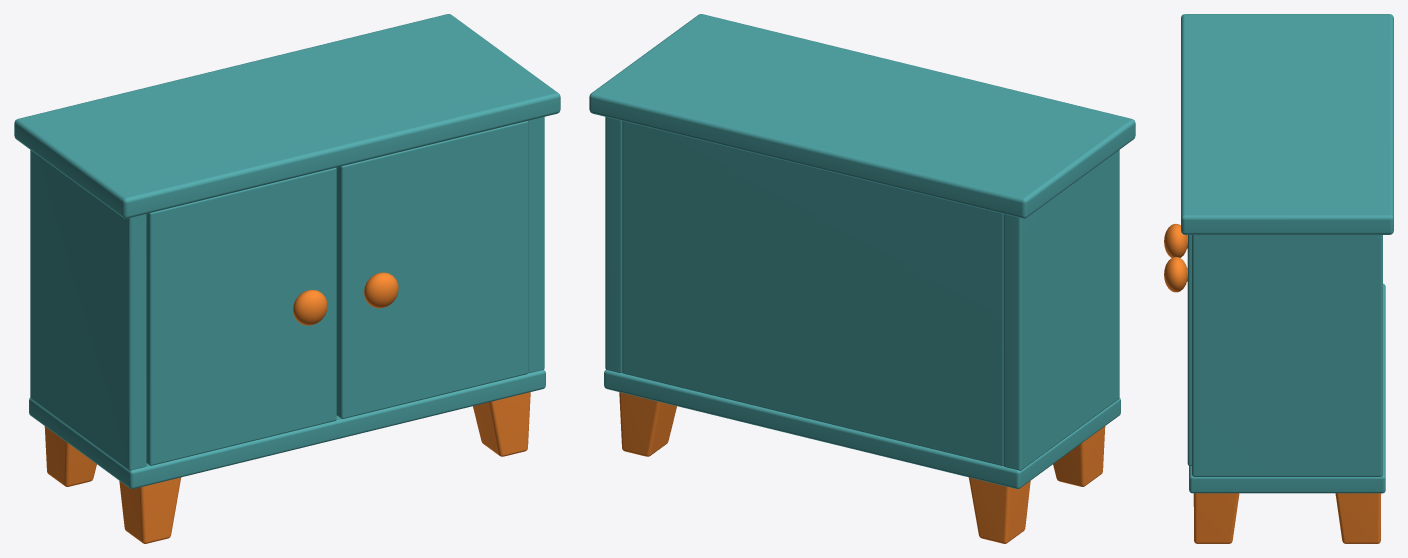
The picture shows the model from 3 angles, left to right: view 1: azimuth 30°, elevation 25°; view 2: azimuth 150°, elevation 25°; view 3: azimuth 270°, elevation 25°; orthographic projection. The views are drawn at different scales.
Visible parts, largest first — view 1: Overhanging solid top, Left inset door, Right inset door, Right side panel, Bottom plinth, Left side panel, Orange tapered foot, Orange tapered foot.002, Orange tapered foot.001, Orange round door knob.001, Orange round door knob; view 2: Rear panel, Overhanging solid top, Right side panel, Bottom plinth, Left side panel, Orange tapered foot.001, Orange tapered foot.003, Orange tapered foot; view 3: Overhanging solid top, Left side panel, Bottom plinth, Orange tapered foot.002, Orange tapered foot.003, Left inset door, Orange round door knob.001, Orange round door knob.
Part boxes in pixels (x1,y1,x2,y2): Overhanging solid top: (14, 14, 560, 218); Left inset door: (336, 121, 528, 418); Right inset door: (146, 168, 336, 465); Right side panel: (30, 150, 146, 470); Bottom plinth: (29, 370, 545, 488); Left side panel: (528, 117, 544, 372); Orange tapered foot: (119, 477, 181, 543); Orange tapered foot.002: (473, 392, 530, 456); Orange tapered foot.001: (44, 426, 96, 486); Orange round door knob.001: (364, 272, 398, 308); Orange round door knob: (293, 290, 327, 325); Rear panel: (622, 121, 1003, 465); Overhanging solid top: (589, 14, 1135, 218); Right side panel: (1003, 150, 1119, 470); Bottom plinth: (604, 370, 1120, 488); Left side panel: (605, 117, 622, 372); Orange tapered foot.001: (968, 477, 1030, 543); Orange tapered foot.003: (619, 392, 676, 456); Orange tapered foot: (1053, 426, 1105, 486); Overhanging solid top: (1181, 14, 1393, 234); Left side panel: (1192, 235, 1382, 476); Bottom plinth: (1189, 283, 1385, 493); Orange tapered foot.002: (1193, 493, 1239, 543); Orange tapered foot.003: (1335, 493, 1381, 543); Left inset door: (1187, 235, 1191, 466); Orange round door knob.001: (1164, 257, 1186, 292); Orange round door knob: (1164, 224, 1186, 257).
Bounding box in the file's own units: 2.65 × 2.06 × 1.26.
